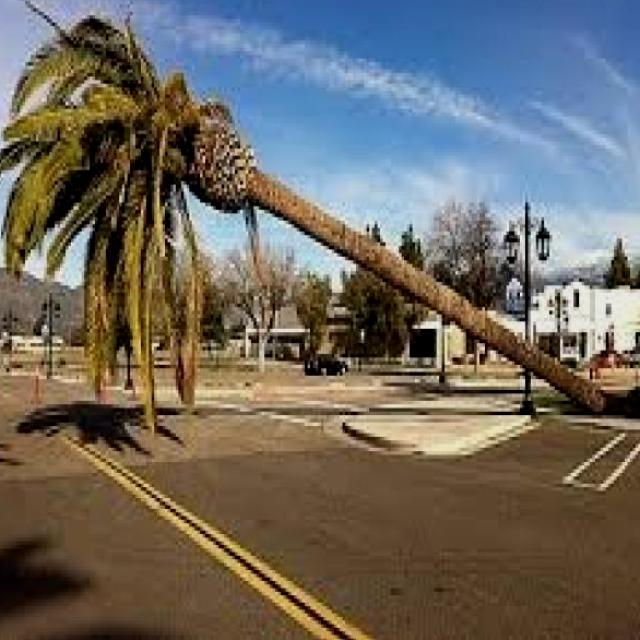fallen_object: (51, 52, 638, 425)
